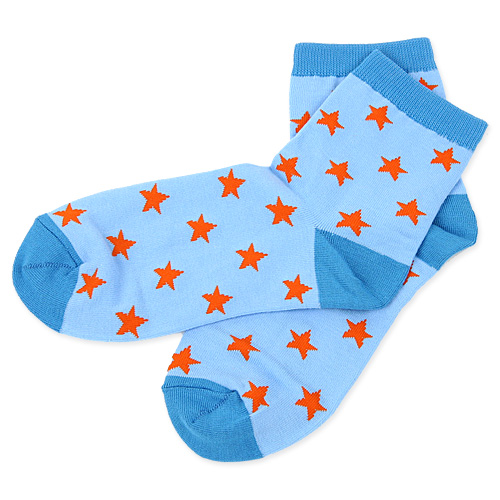flexible: (16, 36, 490, 470)
